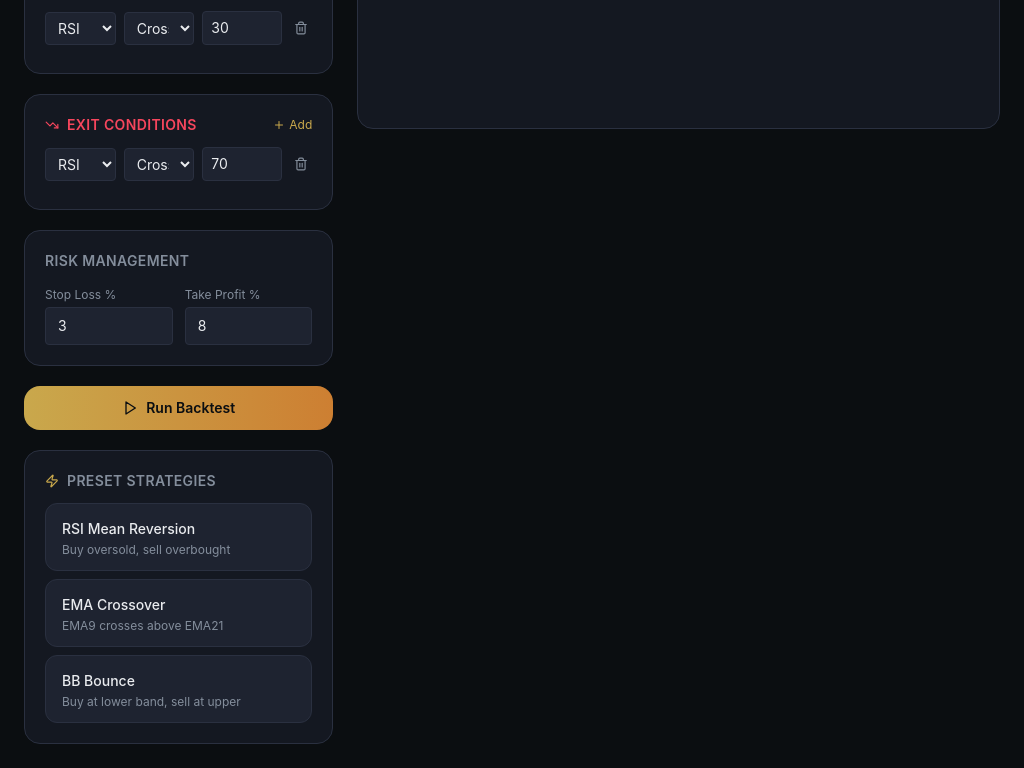
StrategyBacktester page › Loading spinner shown during backtest
The width and height of the screenshot is (1024, 768).
(page scrolled)
Click the button "Run Backtest".
click(179, 408)  # box [24, 386, 333, 430]
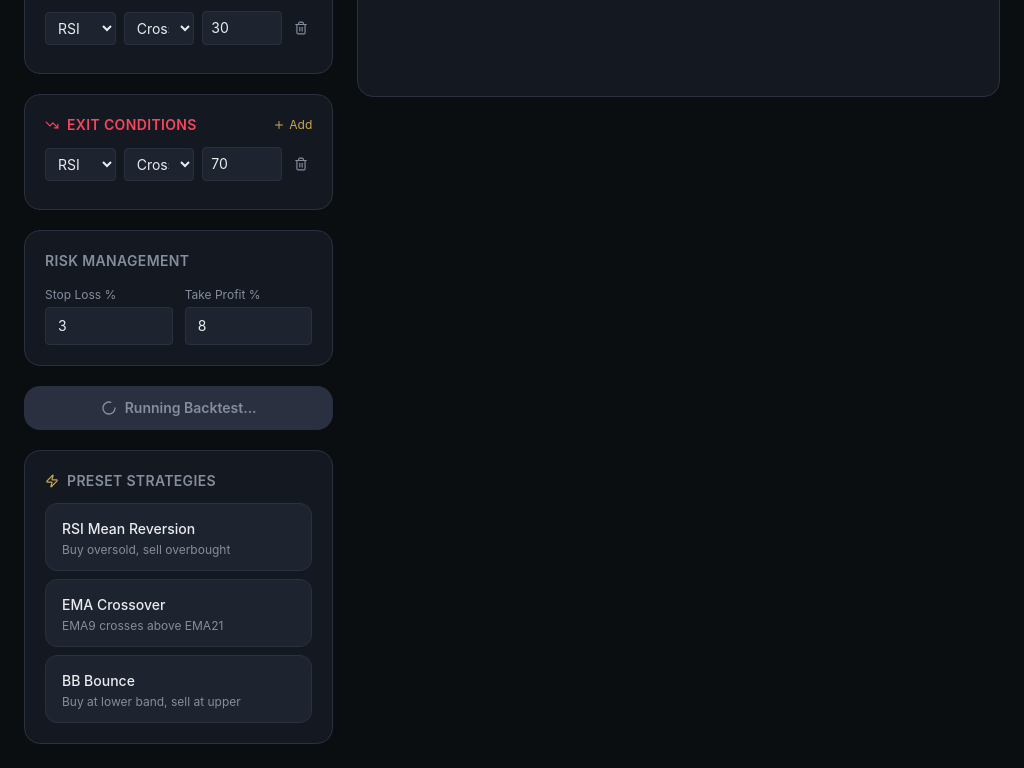
Result: the button "Running Backtest..." is shown at [24, 386, 333, 430]
